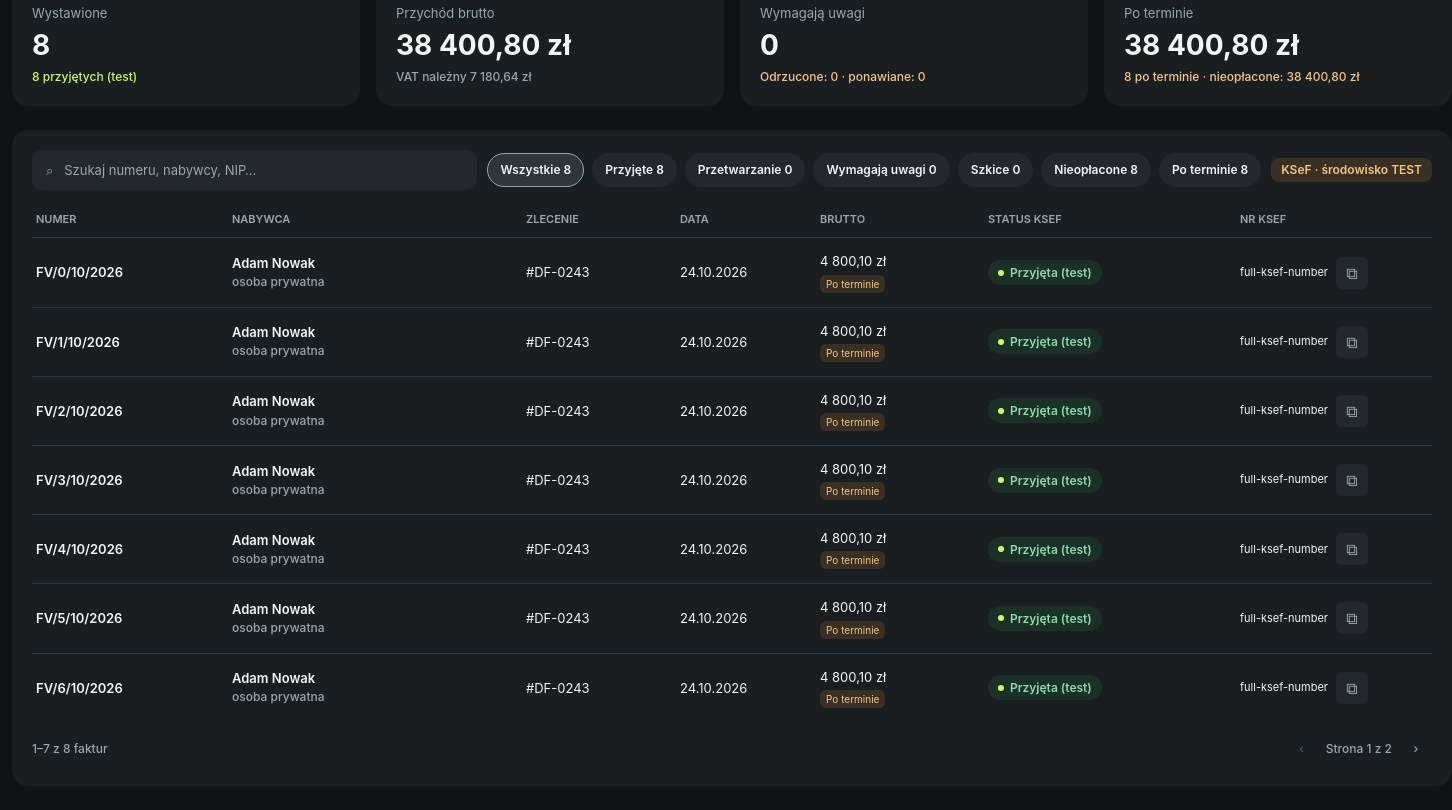
it: paginates seven rows and resets the page after filtering
(page scrolled)
Expected: the link "FV/7/10/2026" is not shown
Click the button named "Następna strona" at [1416, 750], box [1400,734,1432,766]
(page scrolled)
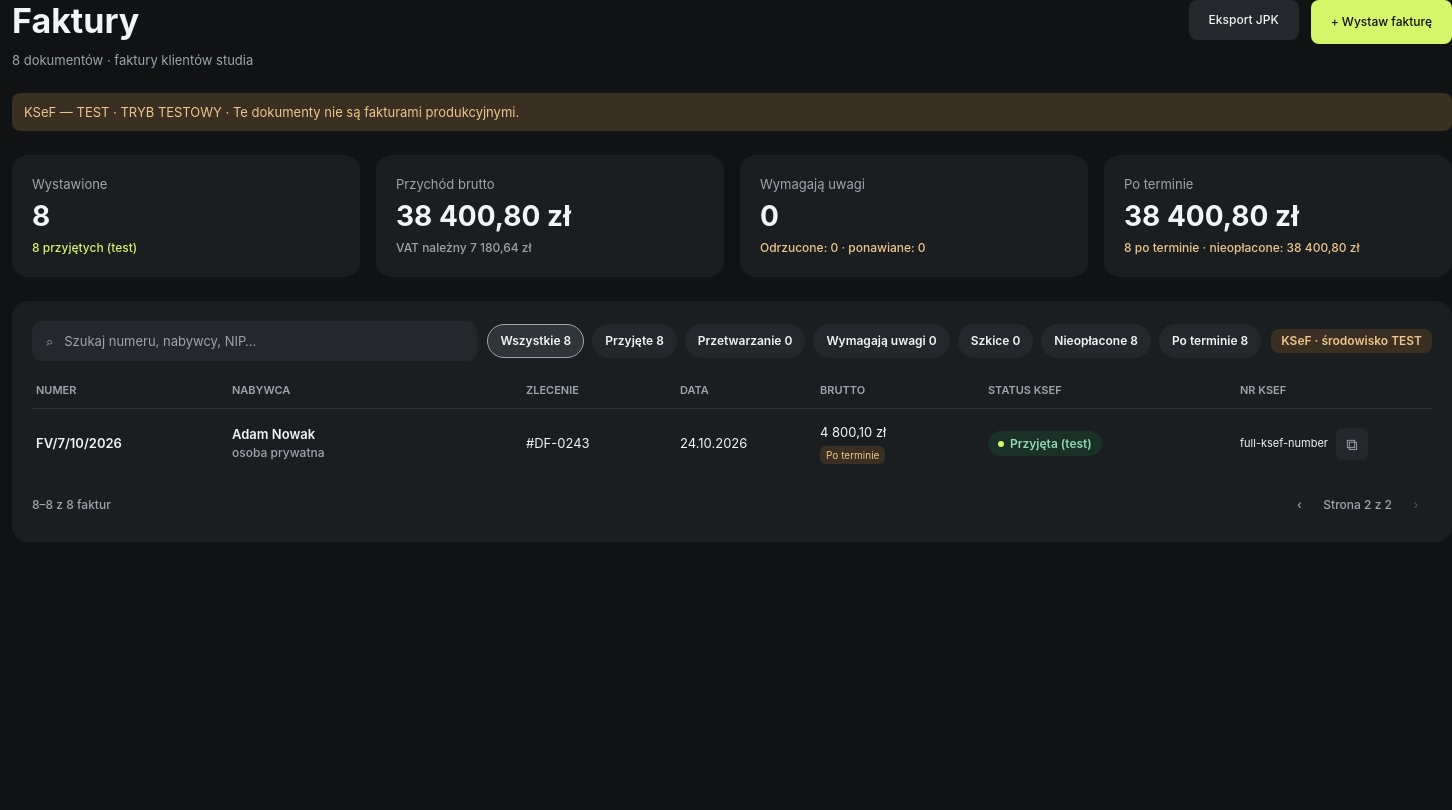
Now the link "FV/7/10/2026" is shown, box [36,435,122,451]
Type "FV/0/" into the search field at [255, 341], box [32,321,477,361]
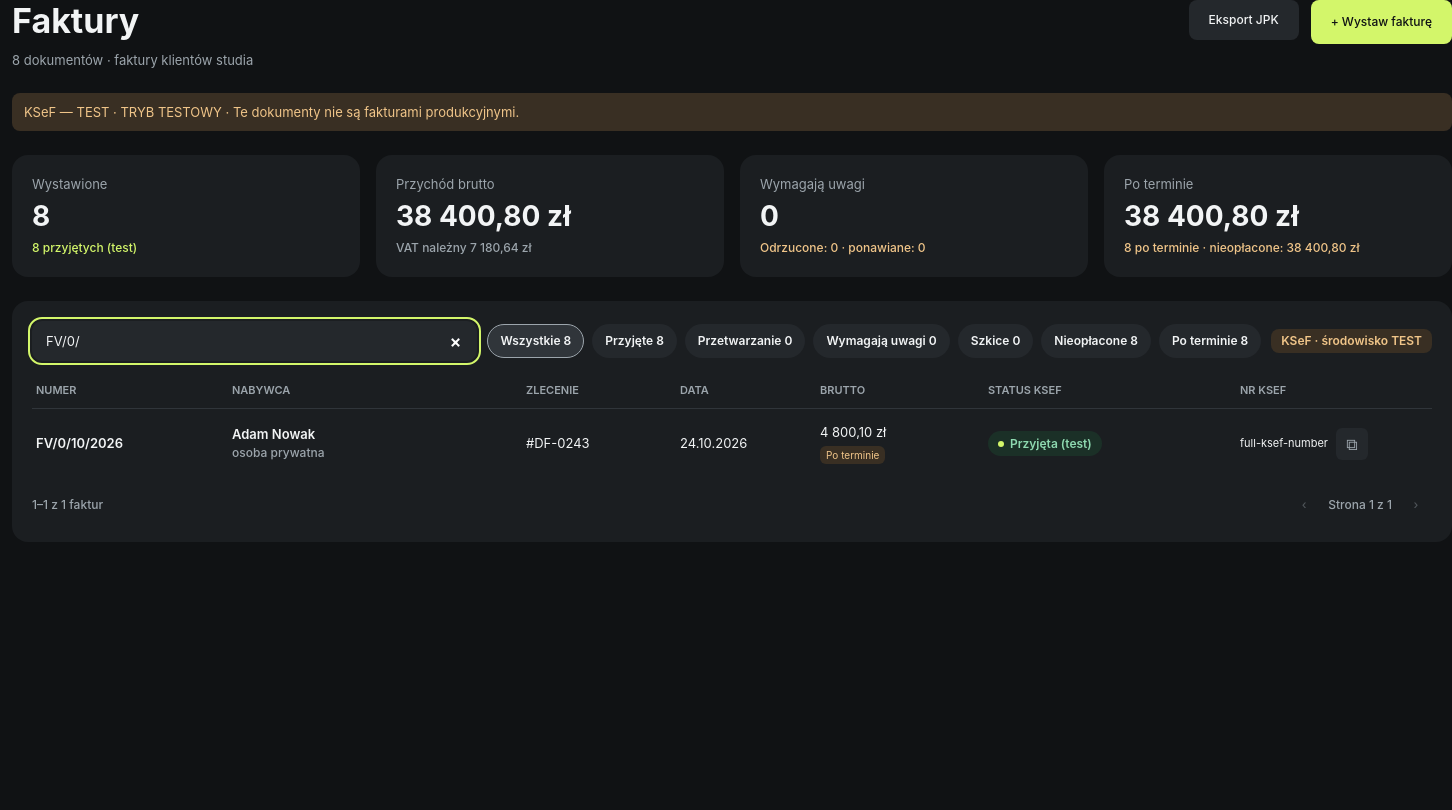
Now the link "FV/0/10/2026" is shown, box [36,435,123,451]
